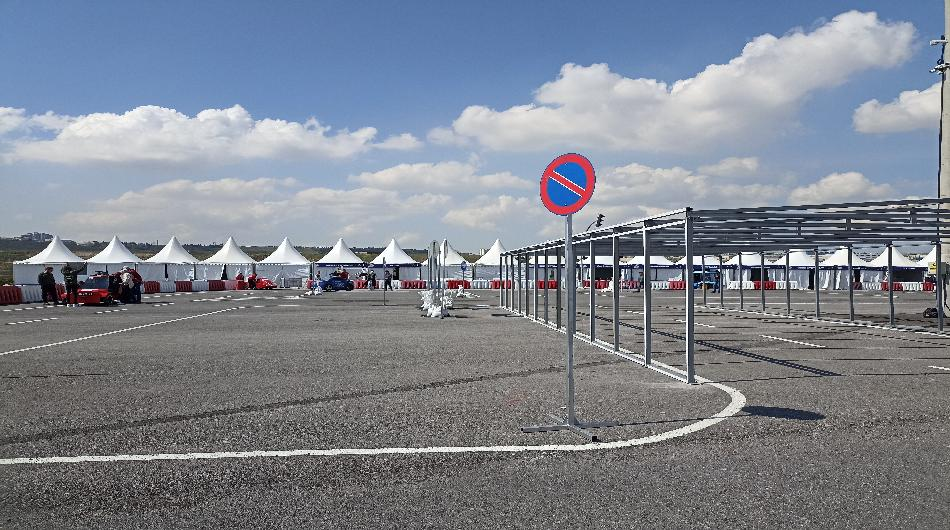park_yapilmaz_1: (540, 153, 596, 214)
